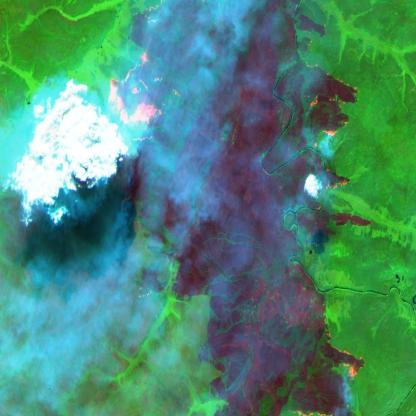fire: (300, 53, 364, 208), (102, 44, 167, 142), (319, 321, 368, 391)
